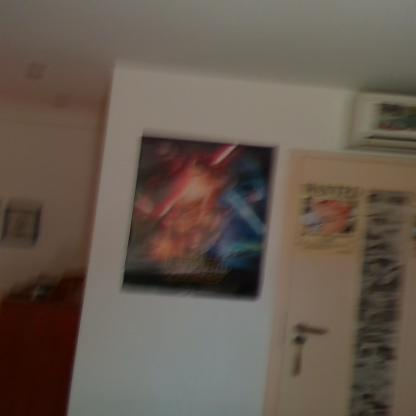door: (282, 158, 415, 416)
lever: (297, 324, 330, 336)
